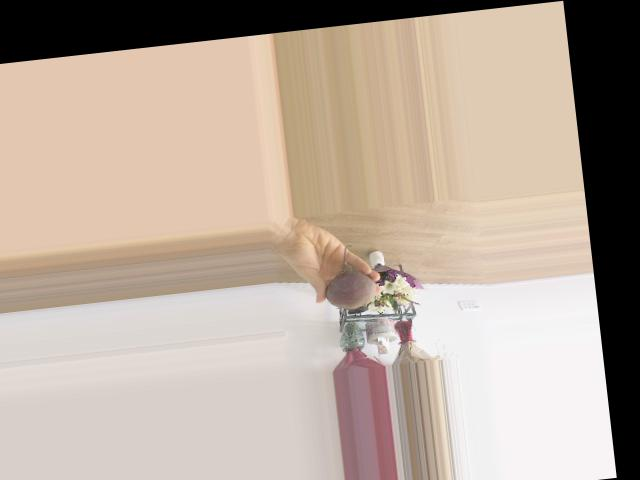beet: (321, 242, 379, 316)
